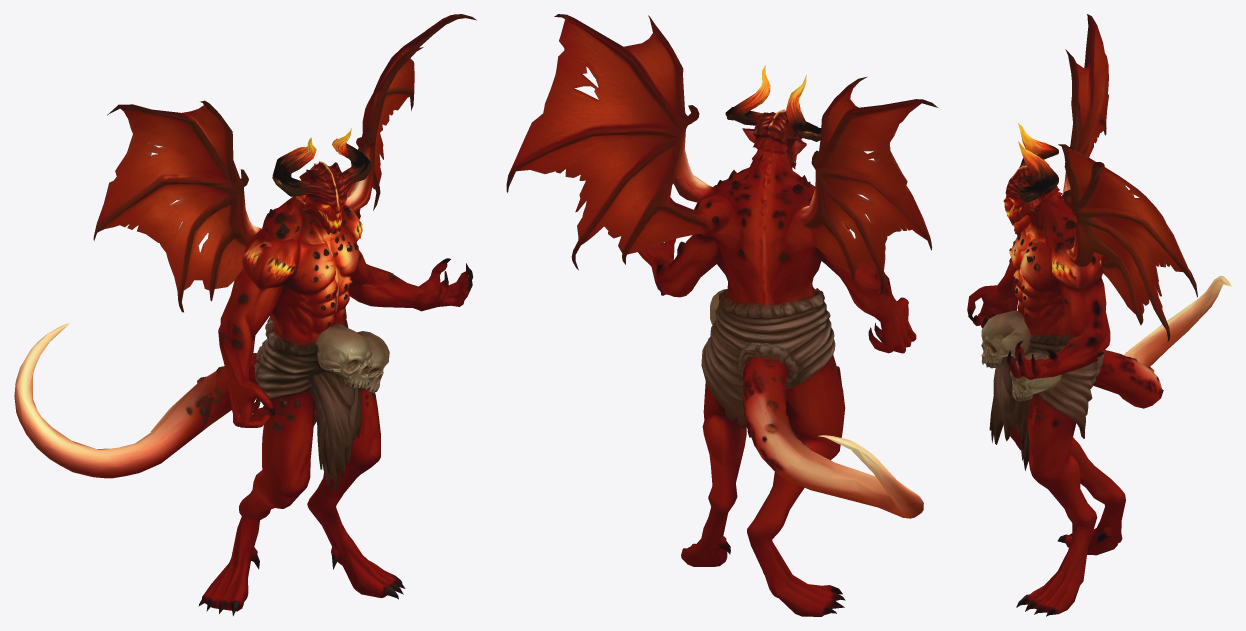
Rendered from meshy-repair.glb.
The picture shows the model from 3 angles, left to right: view 1: azimuth 30°, elevation 25°; view 2: azimuth 150°, elevation 25°; view 3: azimuth 270°, elevation 25°; orthographic projection. The views are drawn at different scales.
Visible parts, largest first — view 1: output_unwrapped; view 2: output_unwrapped; view 3: output_unwrapped.
Boxes of the visible parts, <box> form: output_unwrapped: <box>14,14,476,616</box>; output_unwrapped: <box>506,14,937,616</box>; output_unwrapped: <box>967,14,1231,616</box>.
Size of the model in its own units: 1.53 by 1.9 by 0.9338.
1 material, 1 textured.
